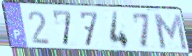2: (27, 10, 51, 46)
4: (109, 10, 131, 51)
7: (51, 9, 74, 48), (78, 10, 100, 48), (131, 12, 152, 50)
M: (151, 12, 190, 52)
